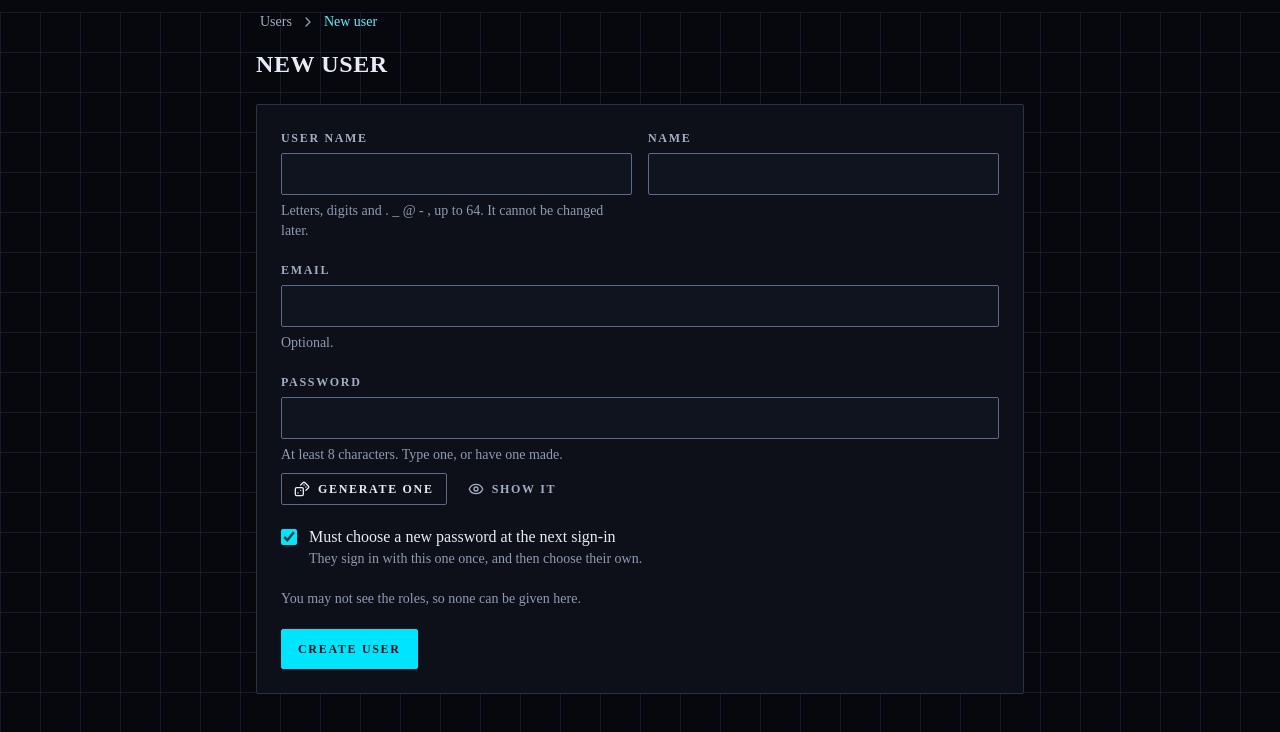
Scenario: a new user (A6) › gives no role where the roles may not be seen, and says so
Expected: the text "You may not see the roles, so none can be given here." is shown, [281, 591, 581, 606]
Type "dave" into the field labelled "User name".
click(456, 174); type("dave")  # box [281, 153, 632, 195]
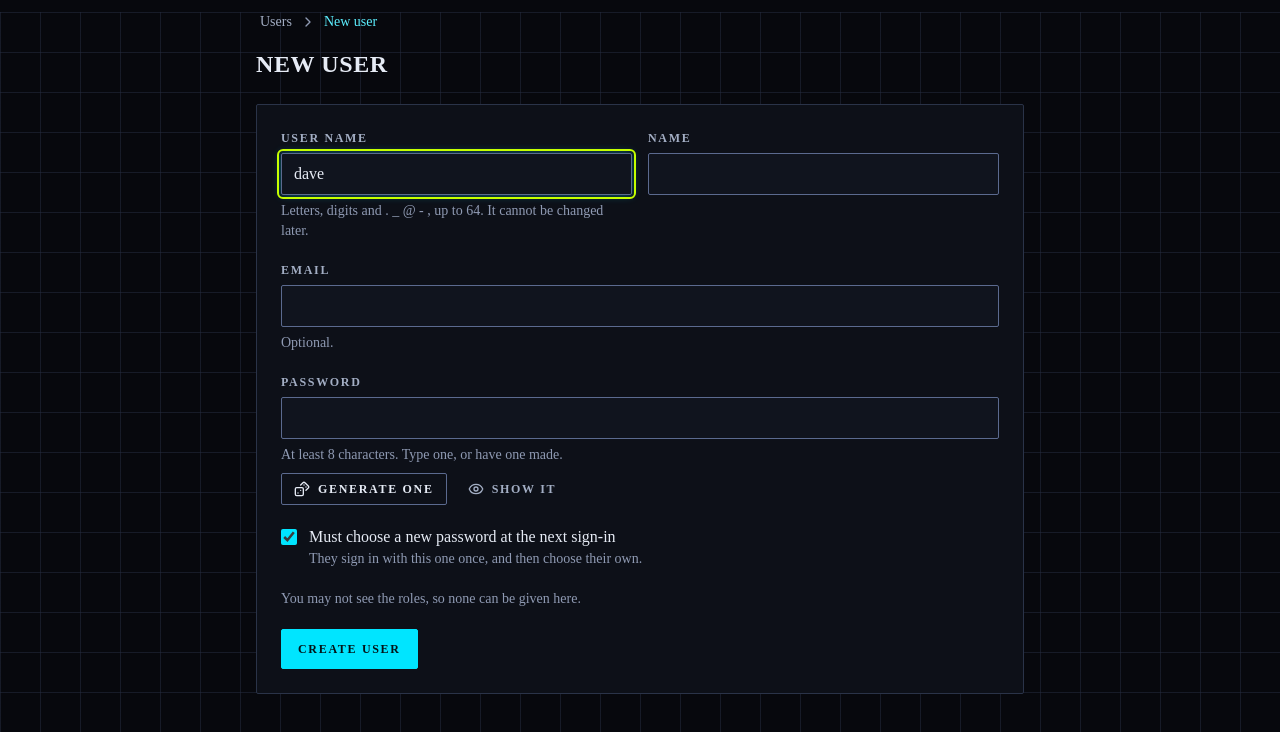
Type "Dave" into the field labelled "Name".
click(824, 174); type("Dave")  # box [648, 153, 999, 195]
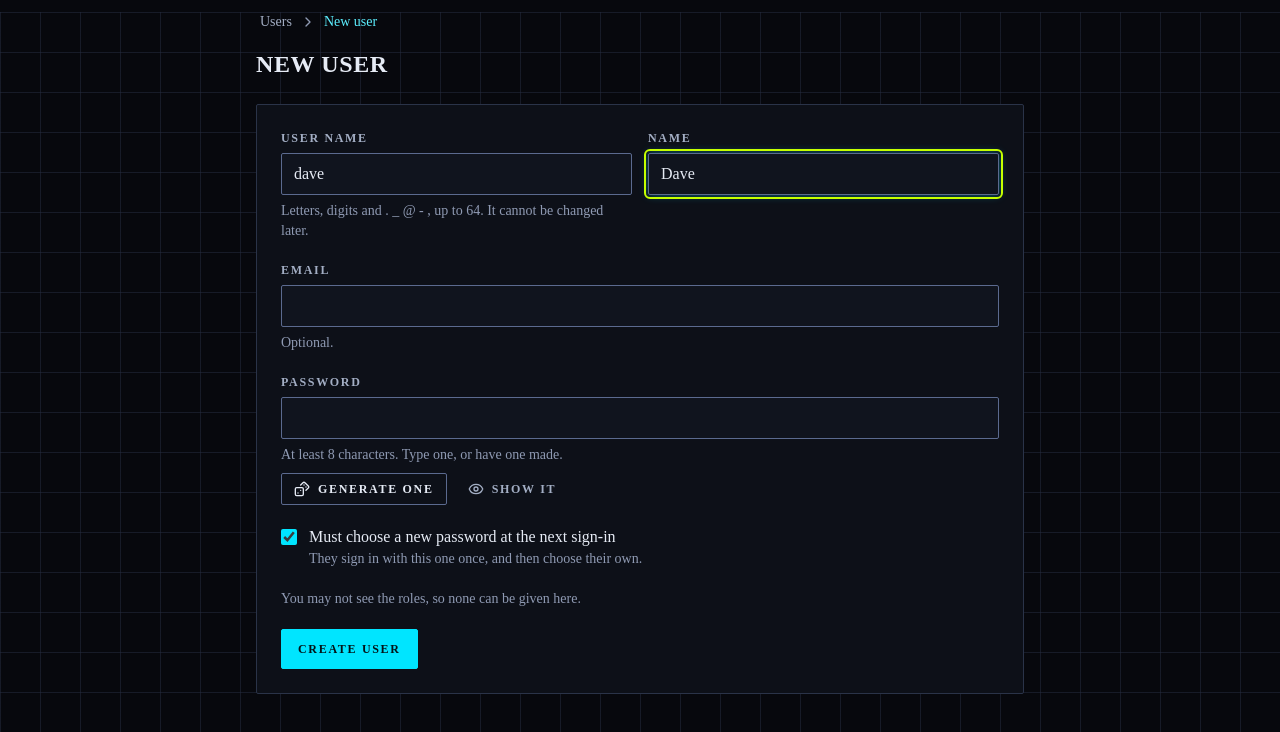
Type "long-enough" into the password field labelled "Password".
click(640, 418); type("long-enough")  # box [281, 397, 999, 439]
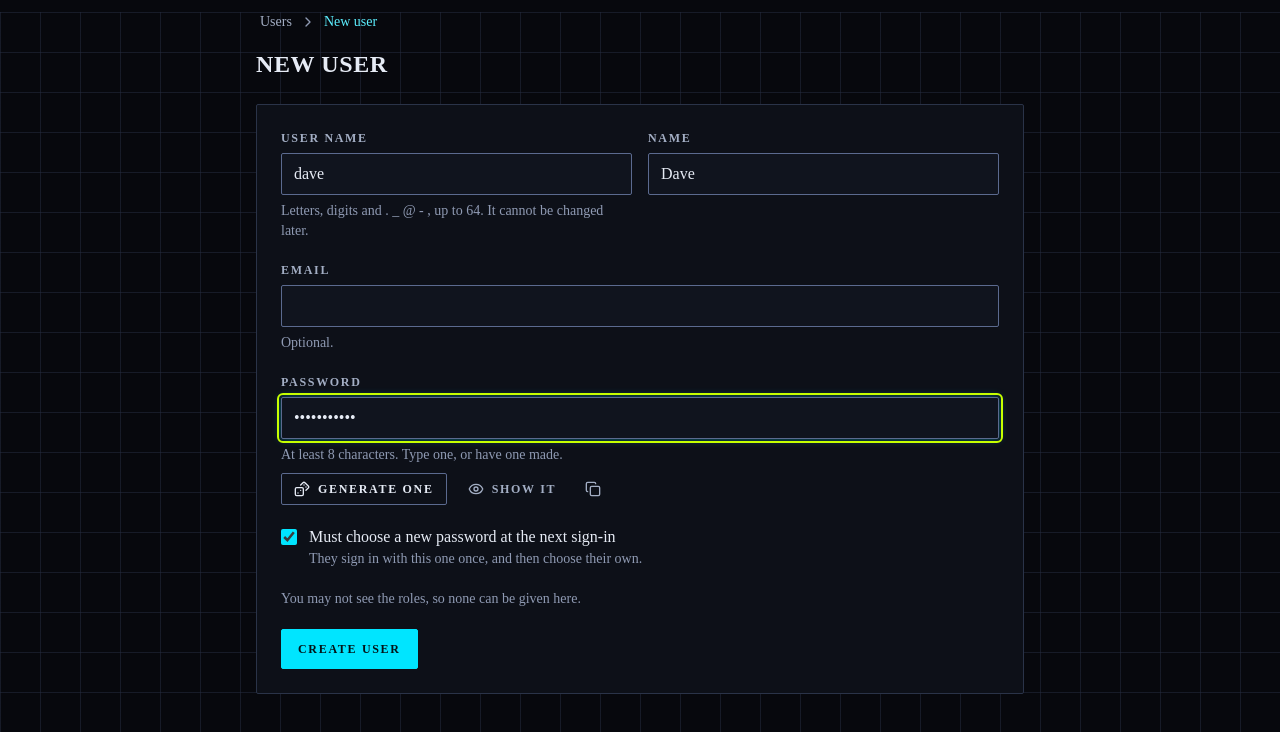
Click the button "Create user".
click(349, 649)  # box [281, 629, 418, 669]
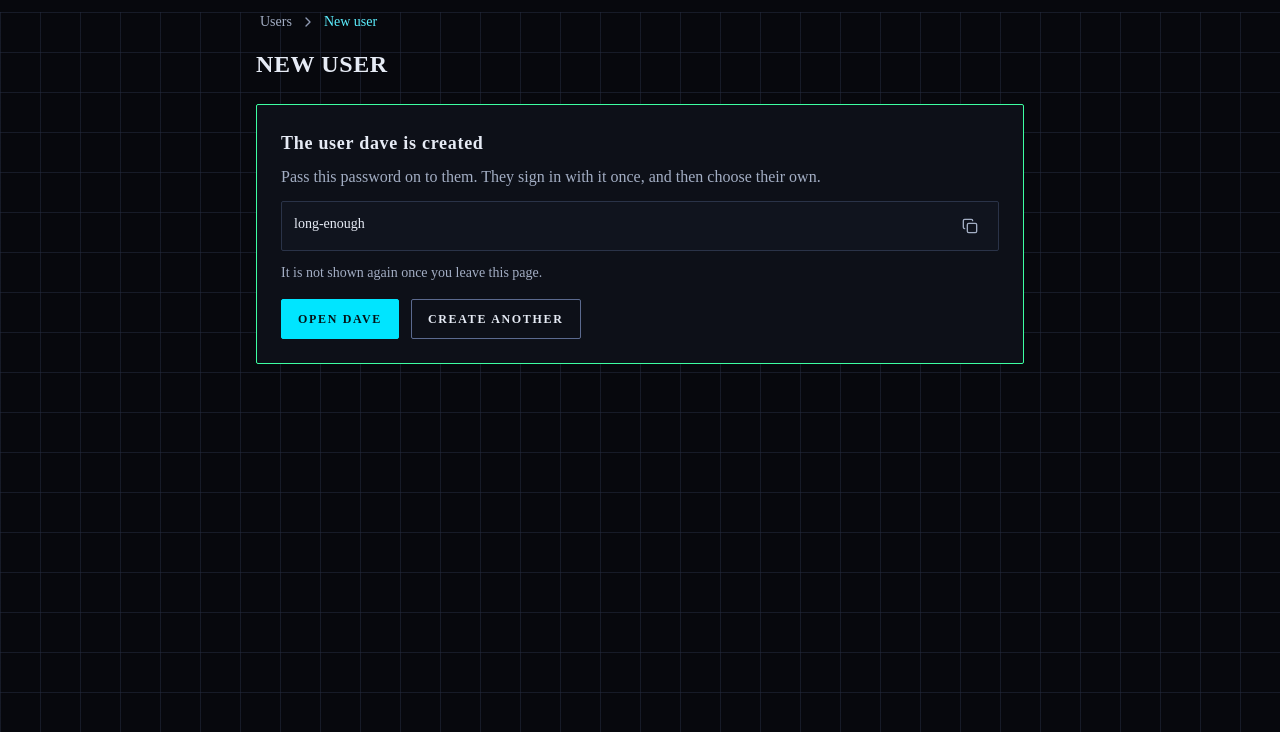
Result: the element "The user dave is created" is shown at [256, 104, 1024, 364]
